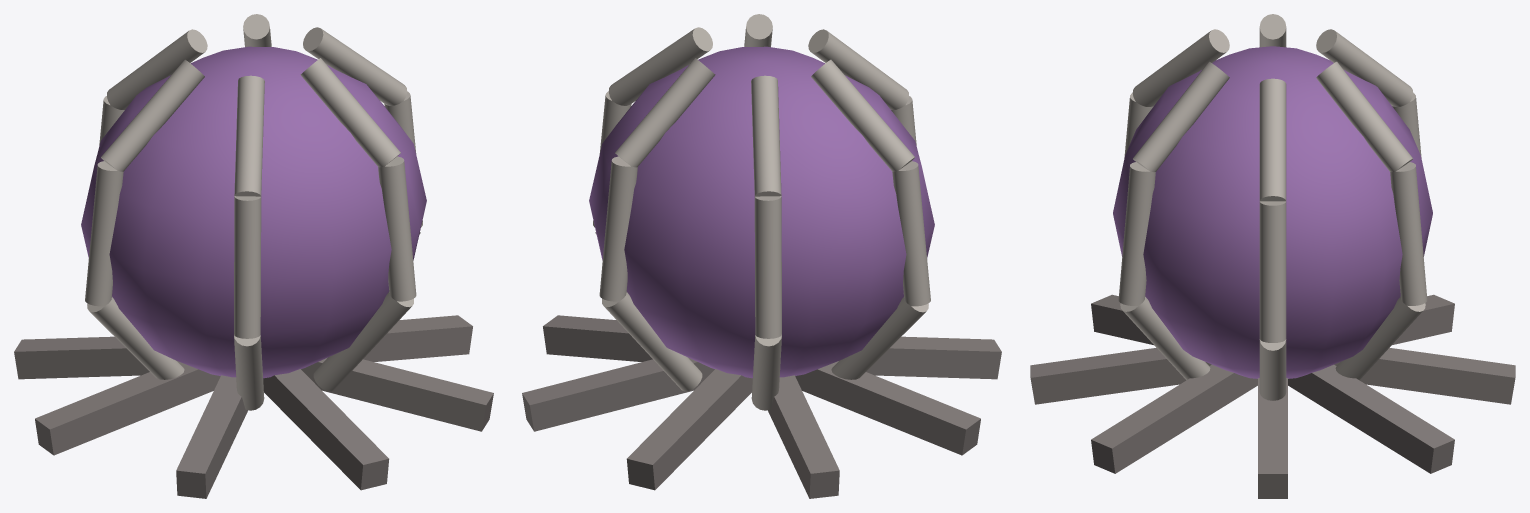
The model's file is CMU3DHiveCMU14PathogenRecoveryNode.glb.
3 views of the same model, side by side, from view 1: azimuth 30°, elevation 25°; view 2: azimuth 150°, elevation 25°; view 3: azimuth 270°, elevation 25° (orthographic).
Parts seen in each view (by area): view 1: central nutrient pod, curved pod cage rib (×13), anchoring root (×6); view 2: central nutrient pod, curved pod cage rib (×13), anchoring root (×6); view 3: central nutrient pod, curved pod cage rib (×14), anchoring root (×7).
Boxes of the visible parts, x1,y1,x2,y2 form: central nutrient pod: (81,46,426,378); curved pod cage rib (×13): (85,14,422,410); anchoring root (×6): (14,315,493,498); central nutrient pod: (589,46,934,378); curved pod cage rib (×13): (593,14,930,410); anchoring root (×6): (522,315,1001,498); central nutrient pod: (1113,46,1432,378); curved pod cage rib (×14): (1118,14,1427,400); anchoring root (×7): (1030,294,1515,498).
Bounding box in the file's own units: 0.9085 × 0.7277 × 0.9085.
